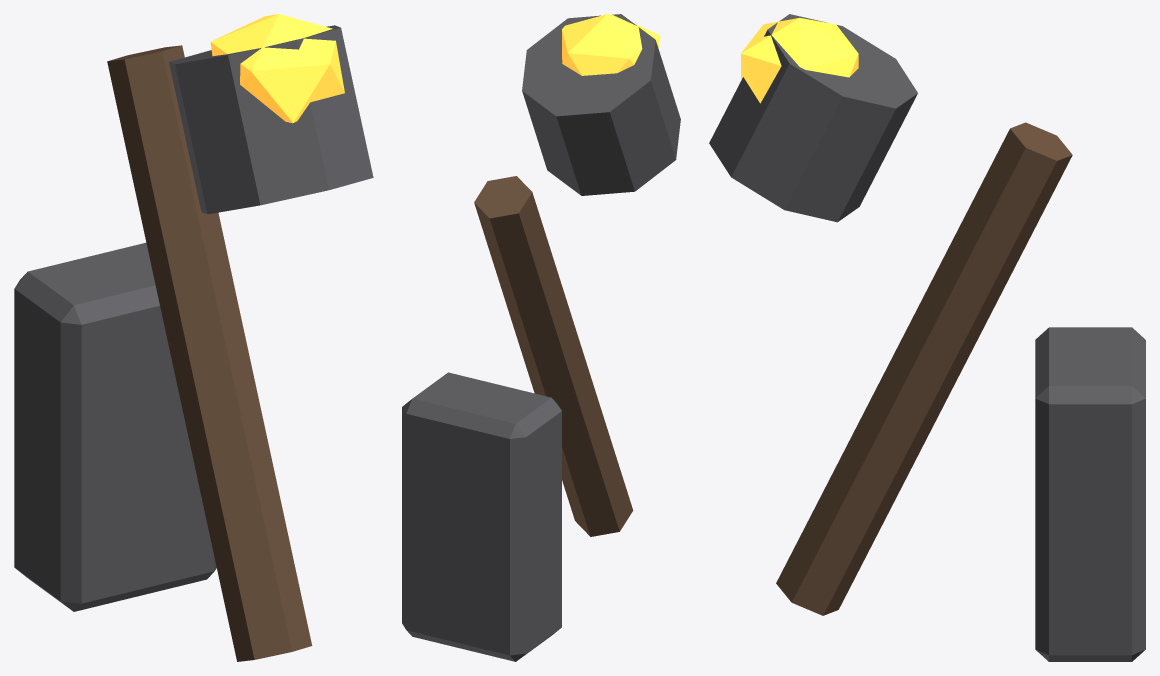
The model's file is torch.glb.
3 renders of one model, left to right at view 1: azimuth 30°, elevation 25°; view 2: azimuth 150°, elevation 25°; view 3: azimuth 270°, elevation 25°, orthographic. The views are drawn at different scales.
Visible parts, largest first — view 1: torch; view 2: torch; view 3: torch.
Boxes of the visible parts, left/top/right/bottom form: torch: left=14, top=14, right=373, bottom=661; torch: left=402, top=14, right=680, bottom=661; torch: left=709, top=14, right=1145, bottom=661.
Size of the model in its own units: 0.12 by 0.49 by 0.3155.
